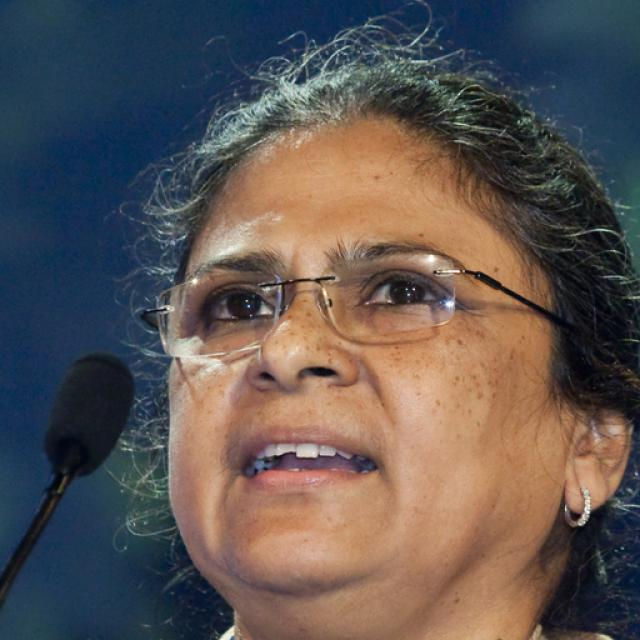Pigmentation: (370, 317, 532, 432), (263, 294, 365, 378)
